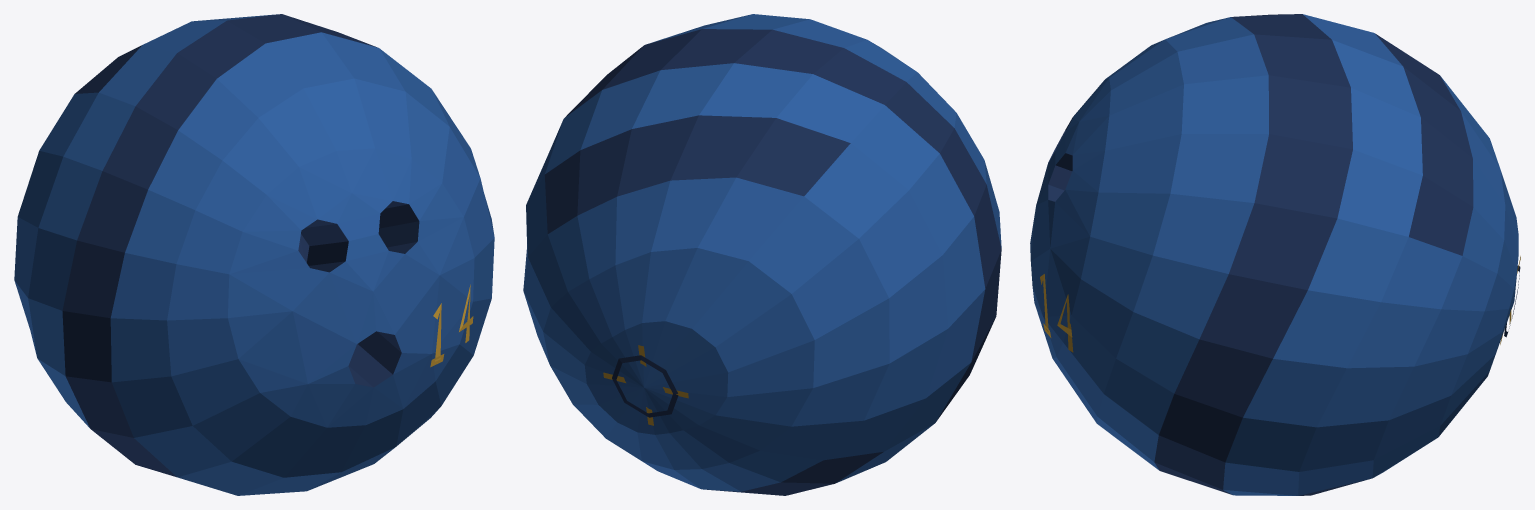
The model's file is cozy_bowling_ball_14lb.glb.
3 renders of one model, left to right at view 1: azimuth 30°, elevation 25°; view 2: azimuth 150°, elevation 25°; view 3: azimuth 270°, elevation 25°, orthographic.
Parts seen in each view (by area): view 1: Ball_14lb_Mesh; view 2: Ball_14lb_Mesh; view 3: Ball_14lb_Mesh.
Boxes of the visible parts, box(x1,y1,x2,y2) form: Ball_14lb_Mesh: box(14, 14, 494, 495); Ball_14lb_Mesh: box(523, 14, 1001, 495); Ball_14lb_Mesh: box(1030, 14, 1520, 495).
Size of the model in its own units: 0.2161 by 0.2161 by 0.2173.
